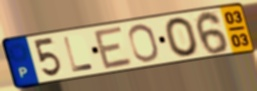5: (32, 35, 63, 79)
6: (193, 9, 231, 56)
E: (91, 24, 135, 71)
L: (61, 35, 96, 74)
O: (163, 16, 201, 59), (127, 22, 162, 63)
